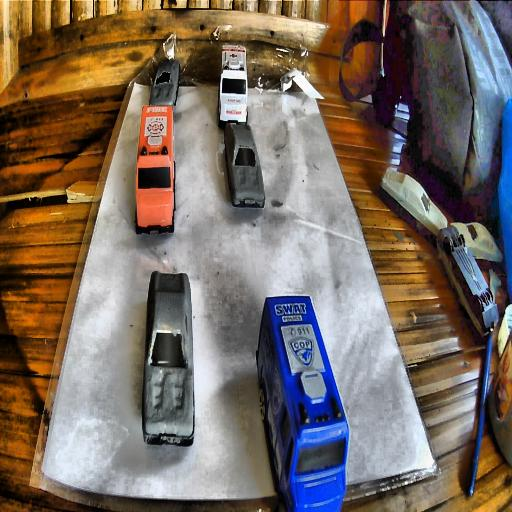ambulance: (217, 44, 249, 130)
fire_truck: (135, 105, 176, 236)
normal_car: (141, 271, 196, 448), (224, 120, 266, 210), (150, 59, 180, 109)
police car: (256, 293, 346, 509)
